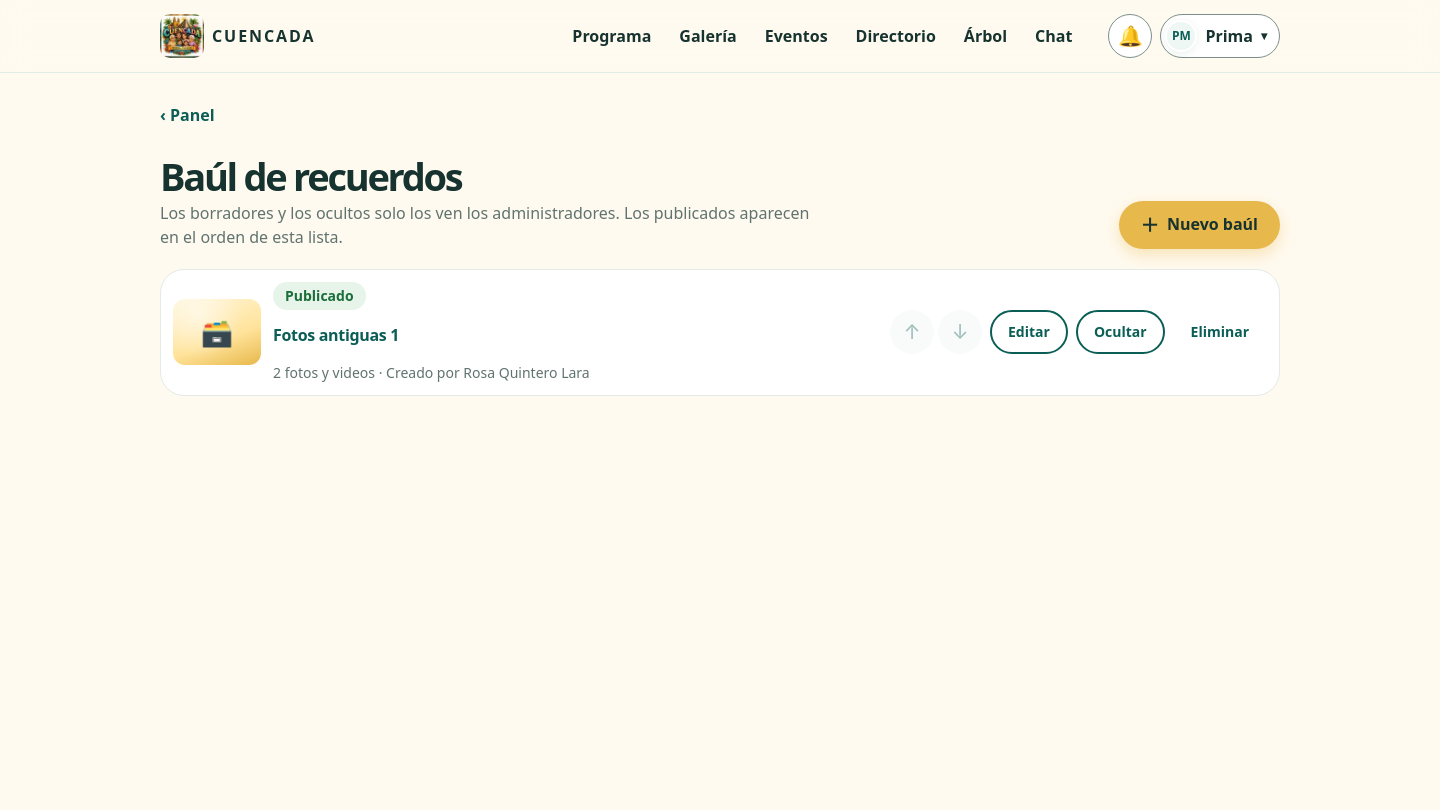
Test: AdminMemoriesPage › edits the title and picks the cover from the box's own photos
The image size is (1440, 810).
Click the button "Editar" at (1029, 332), box [990,310,1068,354]
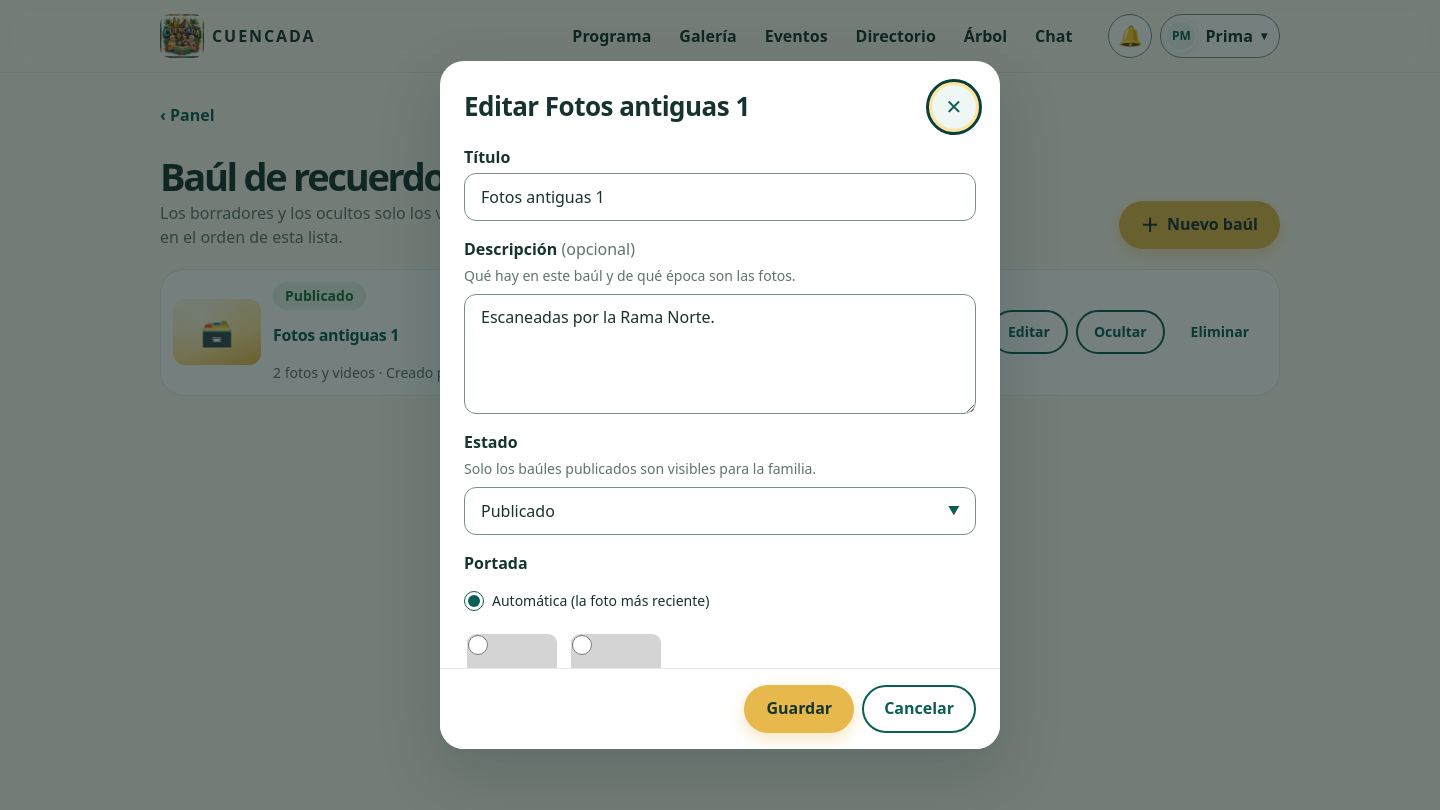
Replace the text in the field labelled "Título" with "La casa de los abuelos" at (720, 197), box [464,173,976,221]
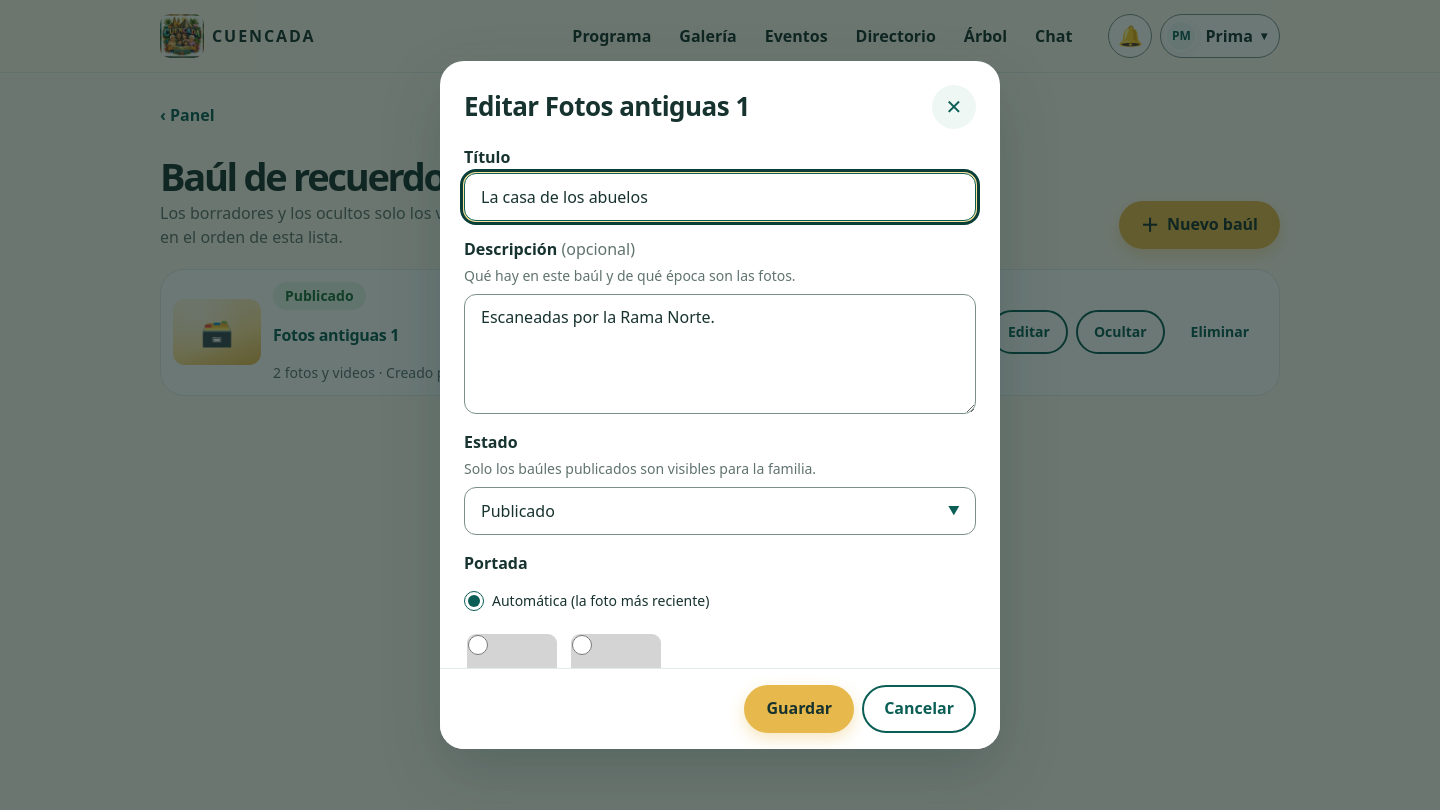
Expected: the radio button labelled "Automática (la foto más reciente)" is checked, [464,591,484,611]
Expected: the number of radio buttons named "Portada:" is 2
Click the radio button named "Portada: Foto número 2" at (582, 645), box [572,635,592,655]
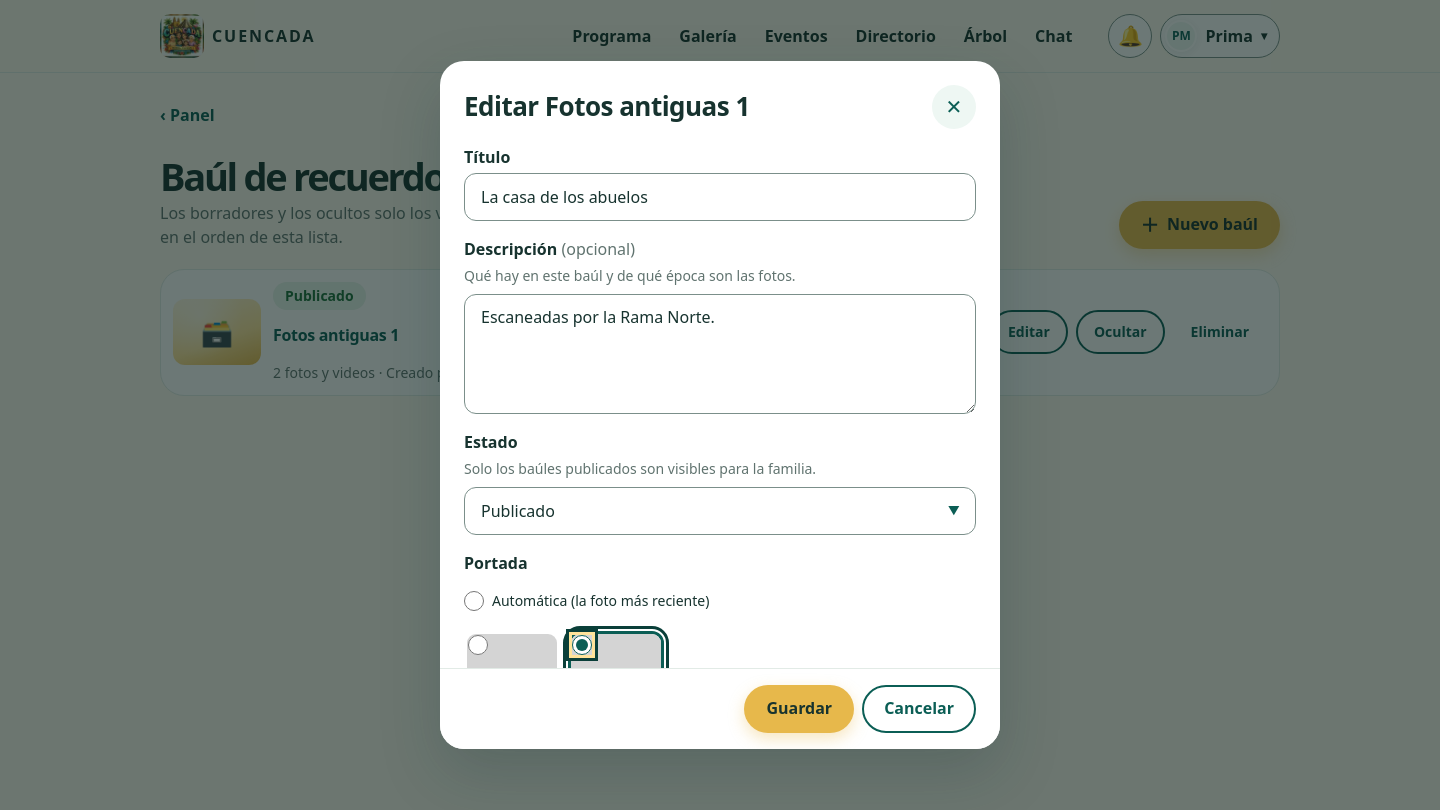
Click the button "Guardar" at (799, 709), box [744,685,854,733]
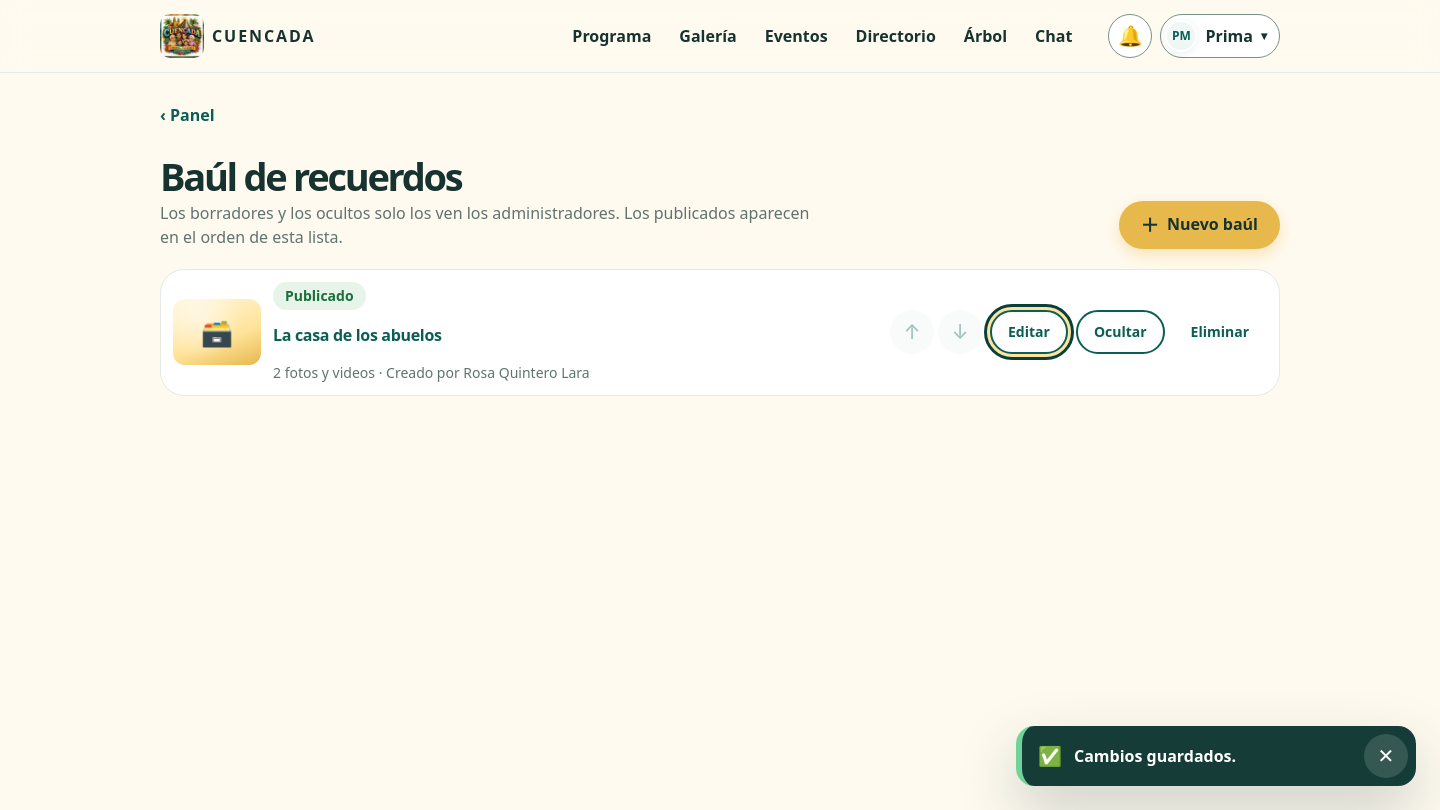
Expected: the text "Cambios guardados." is shown, [1074,745,1236,767]
